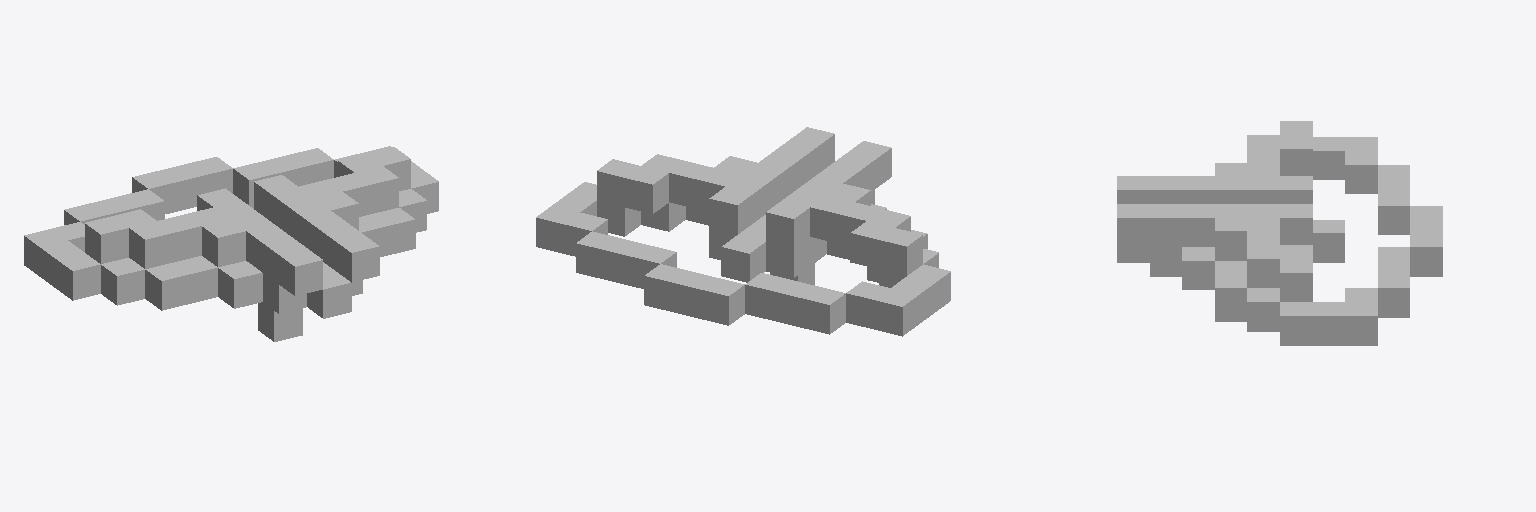
File: Ballista Upper Part.obj
3 renders of one model, left to right at view 1: azimuth 30°, elevation 25°; view 2: azimuth 150°, elevation 25°; view 3: azimuth 270°, elevation 25°, orthographic.
Visible parts, largest first — view 1: object 1; view 2: object 1; view 3: object 1.
Part boxes in pixels (x1,y1,x2,y2): object 1: (24,146,438,341); object 1: (536,127,950,336); object 1: (1117,121,1442,345).
Size of the model in its own units: 1.3 by 0.4 by 1.